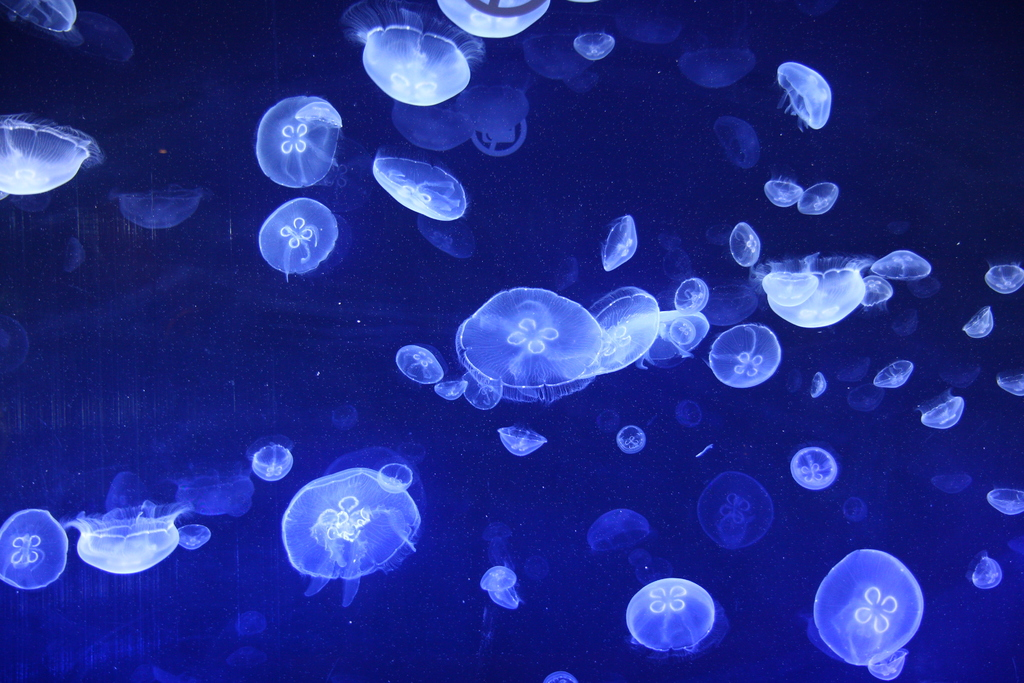Jellyfish: (0, 0, 1023, 682), (269, 462, 427, 607), (450, 285, 603, 390)
